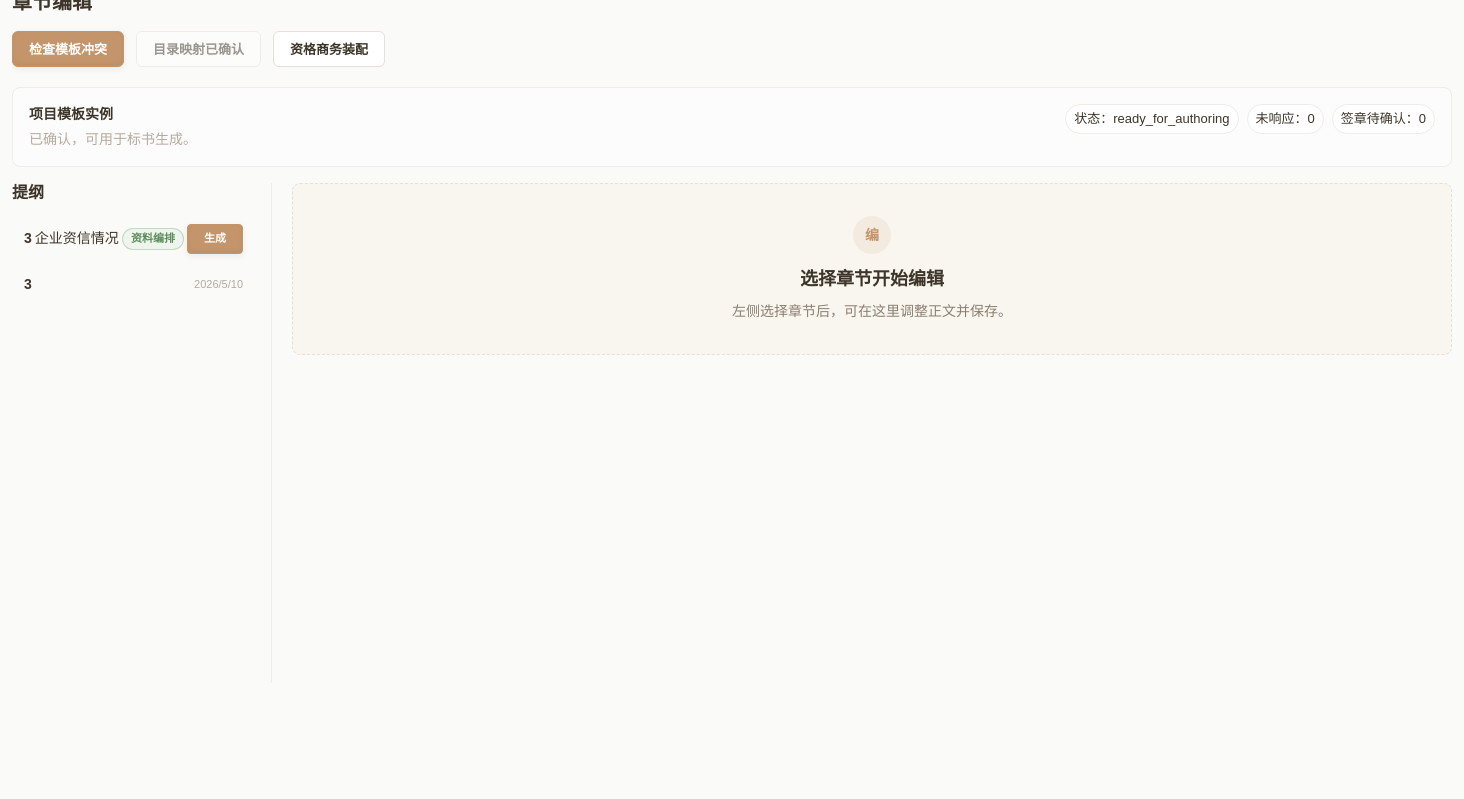
EditorContent chart workflow › binds a candidate material to the selected slot in the business workbench
Step 1. Click the button "资格商务装配" → (329, 49), box [273,31,385,67]
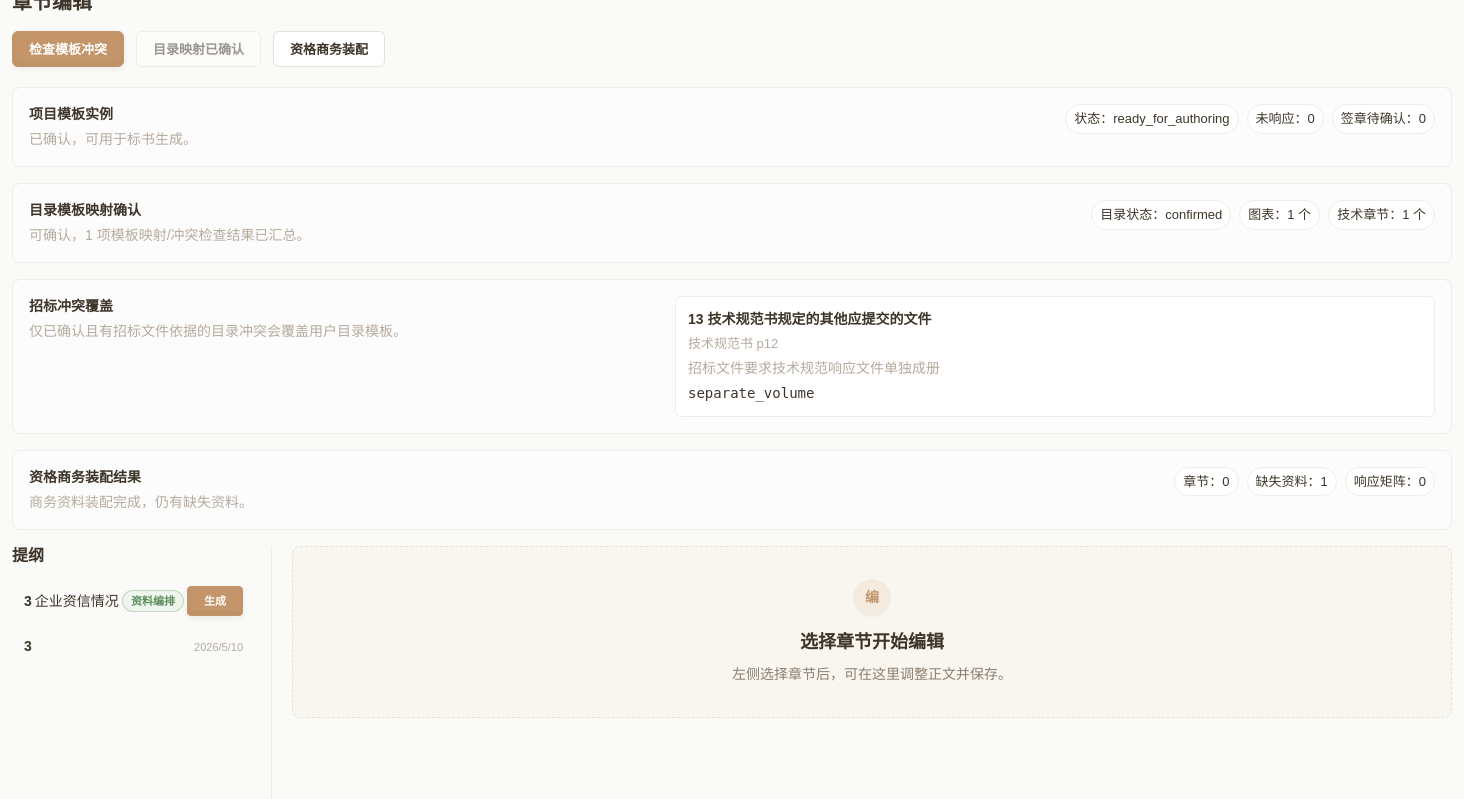
Step 2. Click the text "3" in the row of "2026/5/10" → (28, 647), box [24,636,32,657]
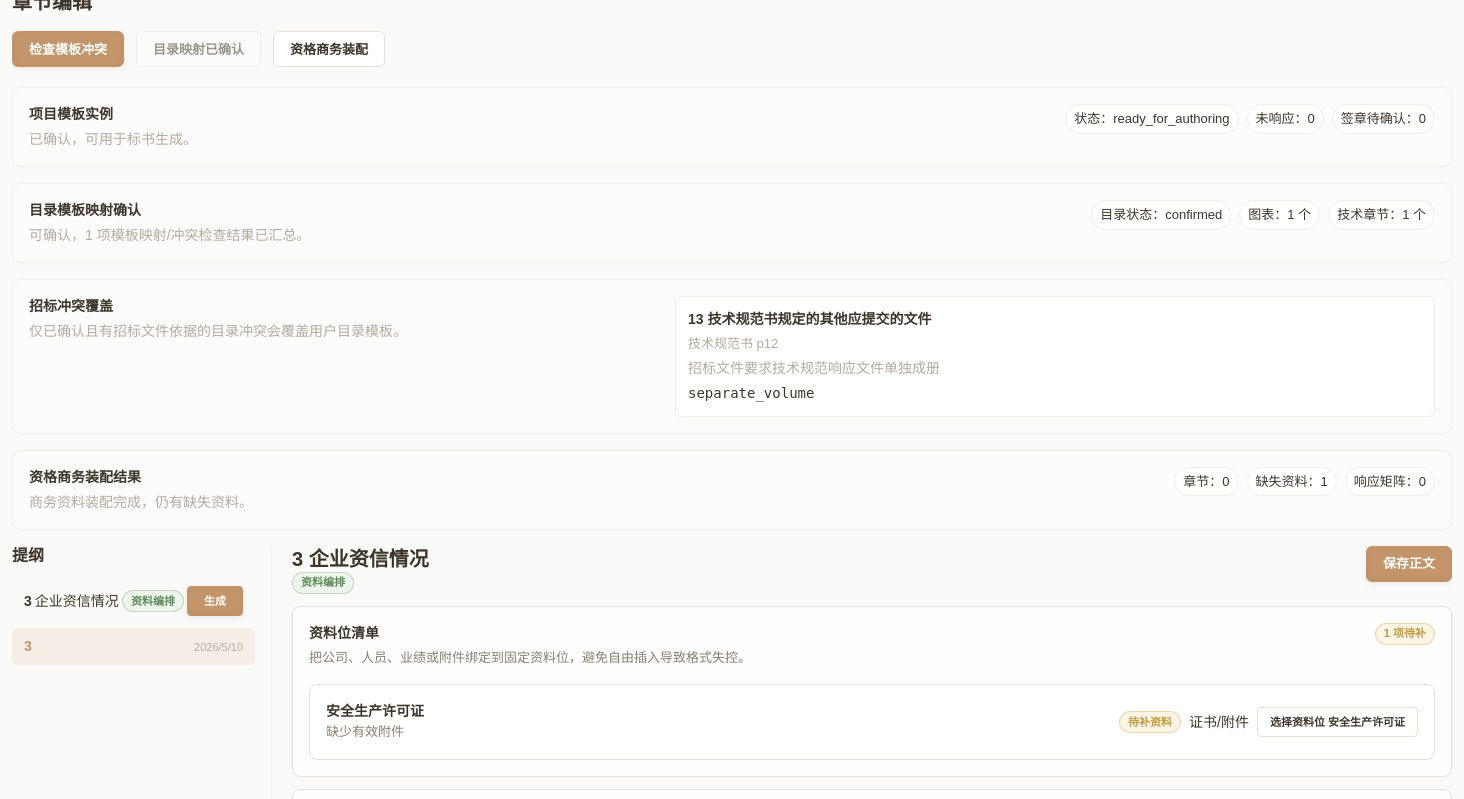
Step 3. Click the button "选择资料位 安全生产许可证" → (1337, 722), box [1257,707,1418,737]
(page scrolled)
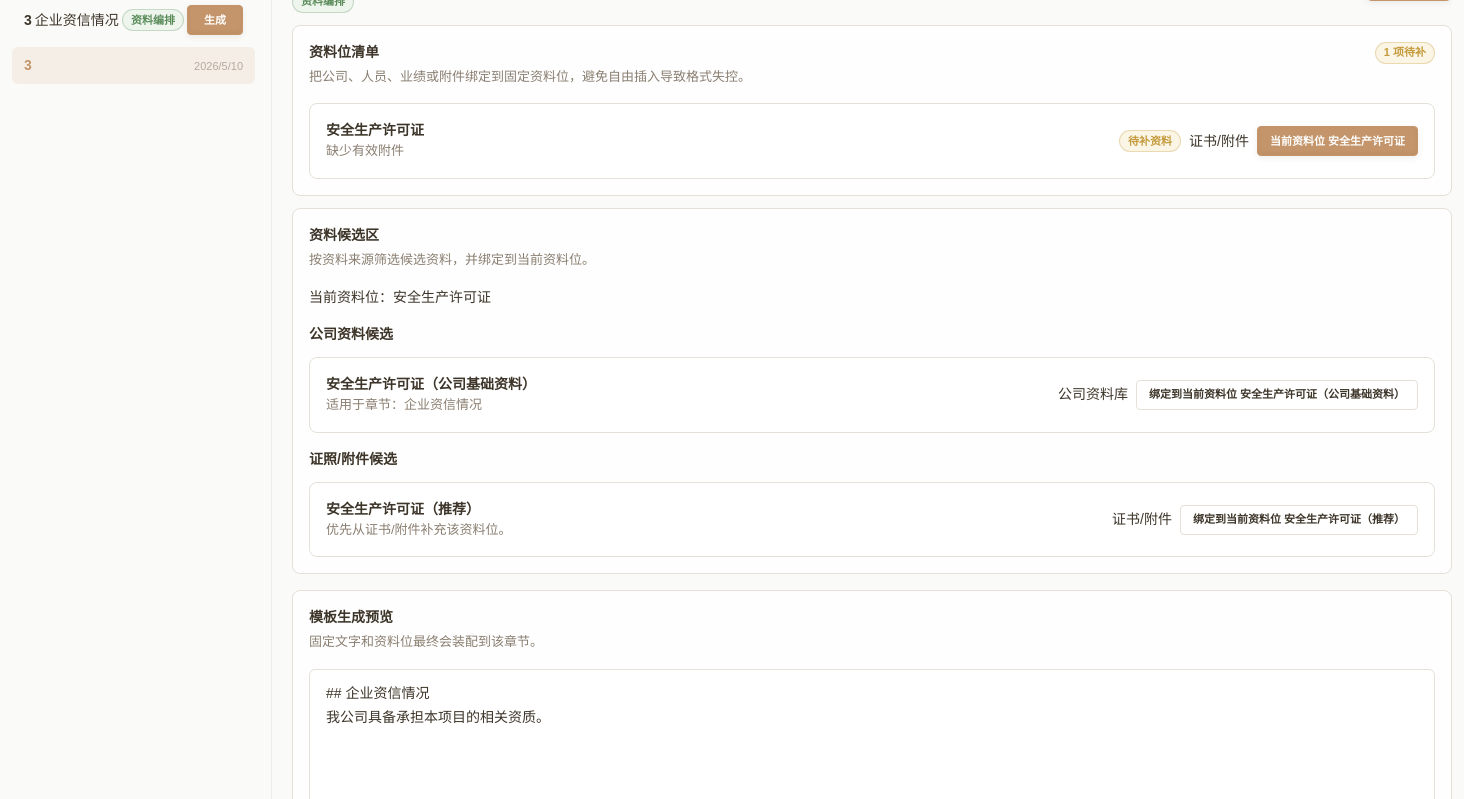
Step 4. Click the button "绑定到当前资料位 安全生产许可证（公司基础资料）" → (1277, 395), box [1136,380,1418,410]
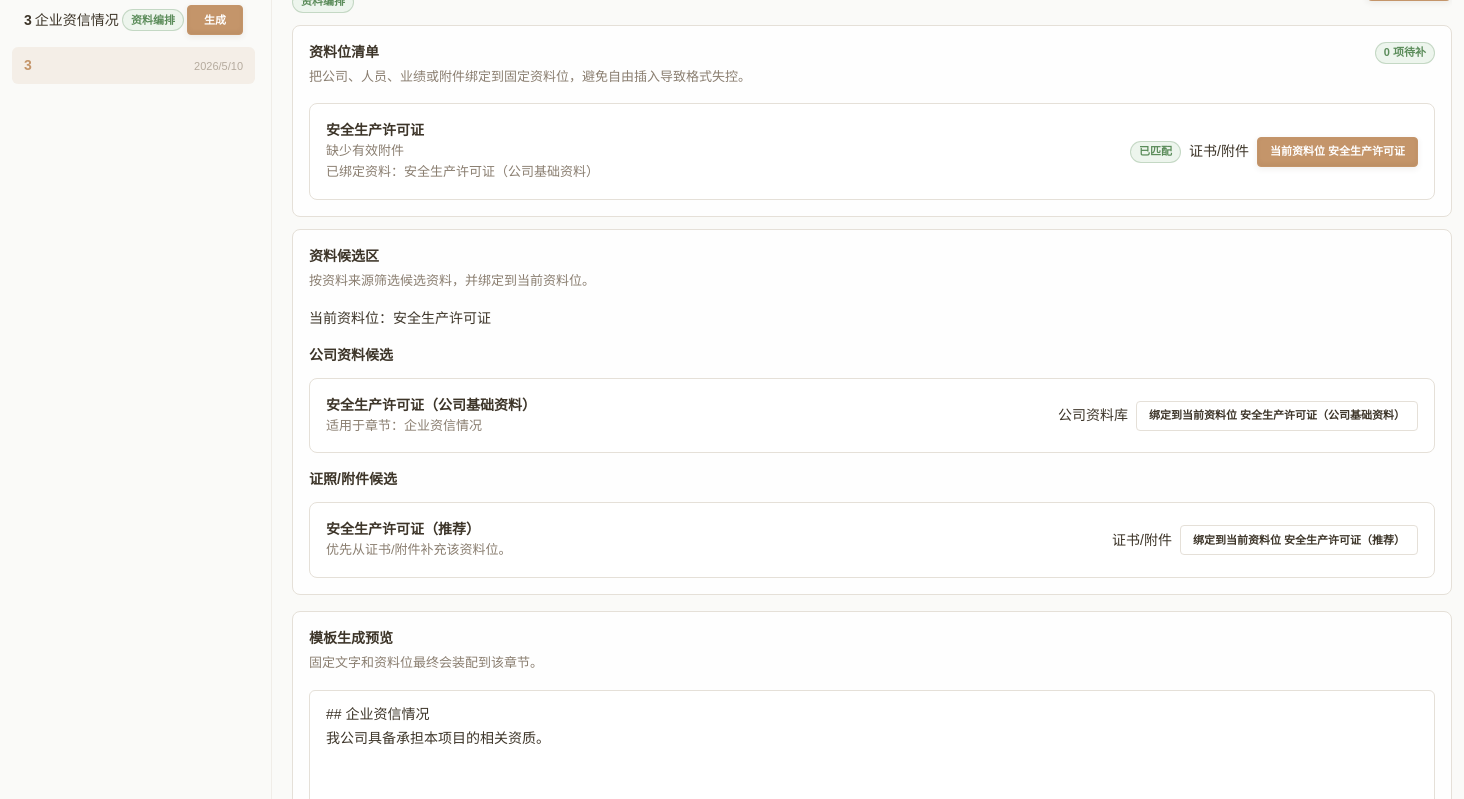
Expected: the text "已绑定资料：安全生产许可证（公司基础资料）" is shown, [326,164,599,179]
Expected: the text "已匹配" is shown, [1130,141,1181,163]
